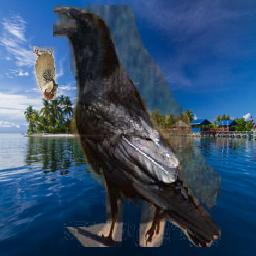Crow: (53, 5, 221, 247)
Sparrow: (34, 46, 59, 100)
